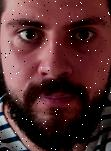without_mask: (2, 1, 111, 151)
